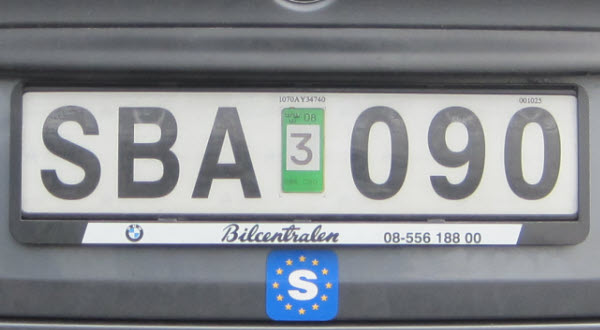license_plate: (17, 87, 579, 221)
